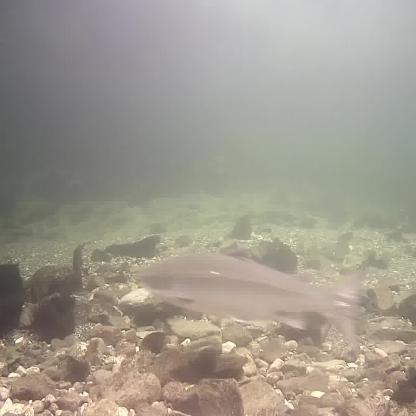salmon: (130, 240, 366, 349)
